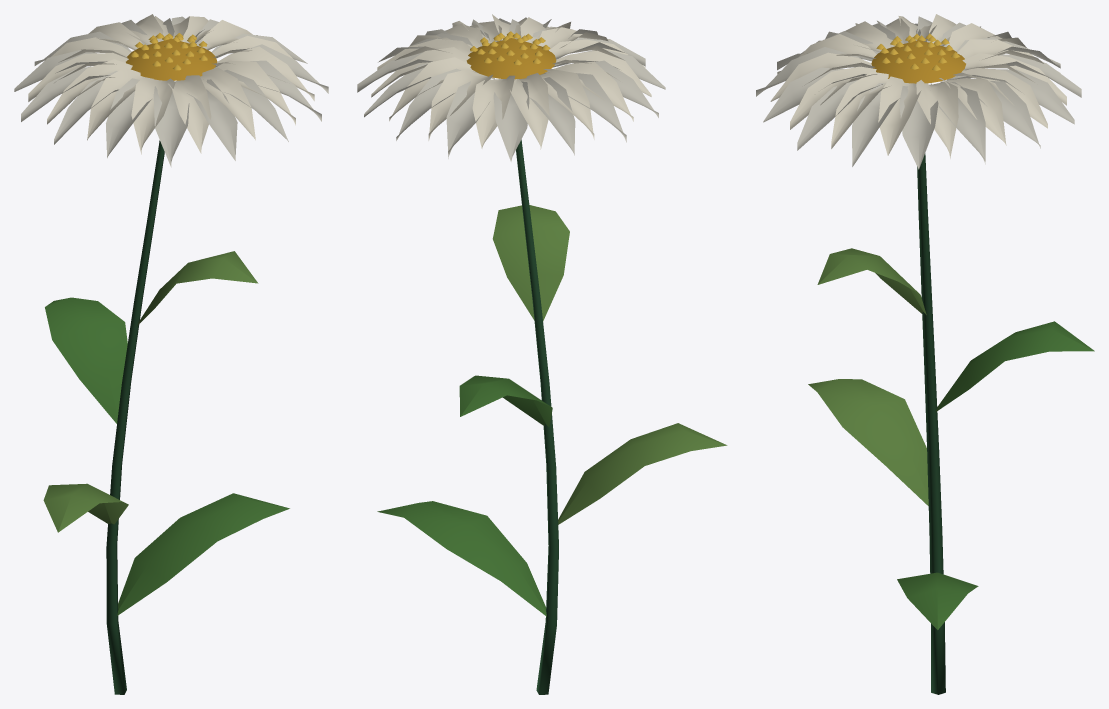
The model's file is meadow_daisy.glb.
3 renders of one model, left to right at view 1: azimuth 30°, elevation 25°; view 2: azimuth 150°, elevation 25°; view 3: azimuth 270°, elevation 25°, orthographic. The views are drawn at different scales.
Parts seen in each view (by area): view 1: body; view 2: body; view 3: body.
Part boxes in pixels (bbox=[...]): body: bbox=[14, 14, 328, 694]; body: bbox=[357, 14, 727, 694]; body: bbox=[756, 14, 1094, 694].
Bounding box in the file's own units: 0.222 × 0.4555 × 0.207.
